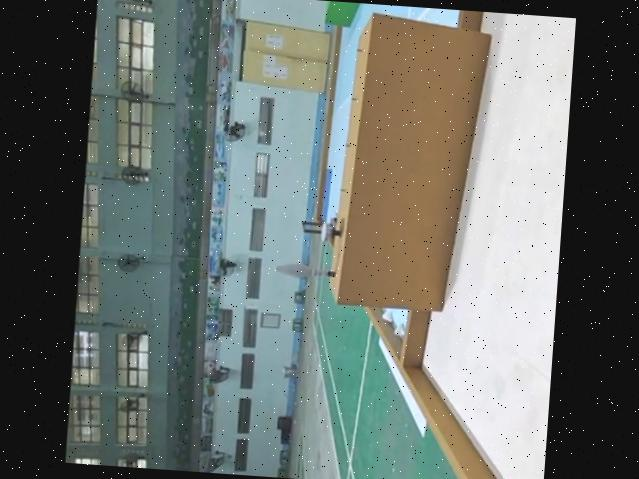Hand: (319, 221, 344, 246)
Sph: (274, 257, 335, 280)
